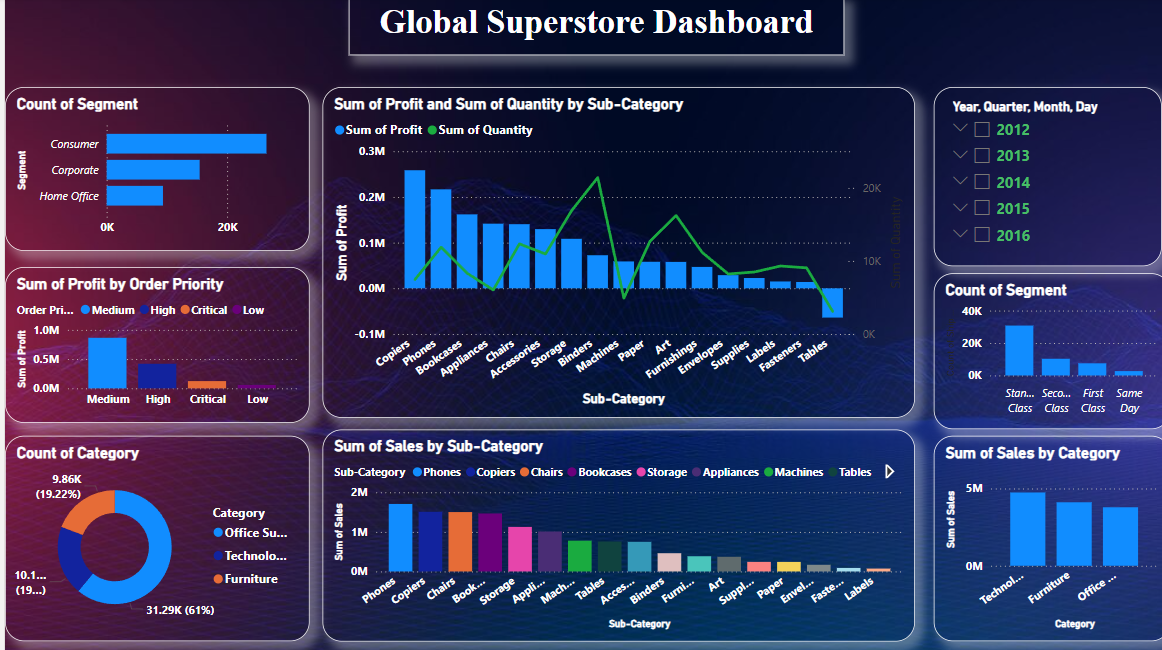

What the dashboard file says about the page in this screenshot:
{"tool":"powerbi","page":{"name":"Page 2","canvas":[1280,720],"ordinal":1},"visuals":[{"type":"barChart","title":"Count of Segment ","fields":{"Category":["Orders.Segment"],"Y":["CountNonNull(Orders.Segment)"]},"box":[0,98.6,334.3,180],"z":0},{"type":"lineStackedColumnComboChart","title":"Sum of Profit by Order Priority ","fields":{"Category":["Orders.Order Priority"],"Y":["Sum(Orders.Profit)"],"Series":["Orders.Order Priority"]},"box":[0,295.7,334.3,171.4],"z":1000},{"type":"donutChart","title":"Count of Category ","fields":{"Category":["Orders.Category"],"Y":["CountNonNull(Orders.Category)"]},"box":[0,481.4,334.3,225.7],"z":2000},{"type":"columnChart","title":"Count of Segment ","fields":{"Category":["Orders.Ship Mode"],"Y":["CountNonNull(Orders.Ship Mode)"]},"box":[1020,302.9,260,171.4],"z":3000},{"type":"columnChart","title":"Sum of Sales by Sub-Category ","fields":{"Category":["Orders.Sub-Category"],"Y":["Sum(Orders.Sales)"],"Series":["Orders.Sub-Category"]},"box":[348.6,474.3,650,232.9],"z":4000},{"type":"columnChart","fields":{"Y":["Sum(Orders.Sales)"],"Category":["Orders.Category"]},"box":[1020,481.4,260,225.7],"z":5000},{"type":"lineStackedColumnComboChart","fields":{"Y":["Sum(Orders.Profit)"],"Y2":["Sum(Orders.Quantity)"],"Category":["Orders.Sub-Category"]},"box":[348.6,98.6,650,362.9],"z":6000},{"type":"slicer","fields":{"Values":["Orders.Ship Date.Variation.Date Hierarchy.Year","Orders.Ship Date.Variation.Date Hierarchy.Quarter","Orders.Ship Date.Variation.Date Hierarchy.Month","Orders.Ship Date.Variation.Date Hierarchy.Day"]},"box":[1020,98.6,250,197.1],"z":7000},{"type":"textbox","box":[377.1,0,544.3,64.3],"z":7001}]}

Visuals, with their boxes in screenshot pixels (x1, y1, x2, y2), scaled from the page's 1280x720 canvas onto the 1162x650 screenshot:
"Count of Segment " barChart: (x1=0, y1=89, x2=303, y2=252)
"Sum of Profit by Order Priority " lineStackedColumnComboChart: (x1=0, y1=267, x2=303, y2=422)
"Count of Category " donutChart: (x1=0, y1=435, x2=303, y2=638)
"Count of Segment " columnChart: (x1=926, y1=273, x2=1161, y2=428)
"Sum of Sales by Sub-Category " columnChart: (x1=316, y1=428, x2=907, y2=638)
columnChart - Sum(Orders.Sales) x Orders.Category: (x1=926, y1=435, x2=1161, y2=638)
lineStackedColumnComboChart - Sum(Orders.Profit) x Sum(Orders.Quantity): (x1=316, y1=89, x2=907, y2=417)
slicer - Orders.Ship Date.Variation.Date Hierarchy.Year x Orders.Ship Date.Variation.Date Hierarchy.Quarter: (x1=926, y1=89, x2=1153, y2=267)
textbox: (x1=342, y1=0, x2=836, y2=58)
